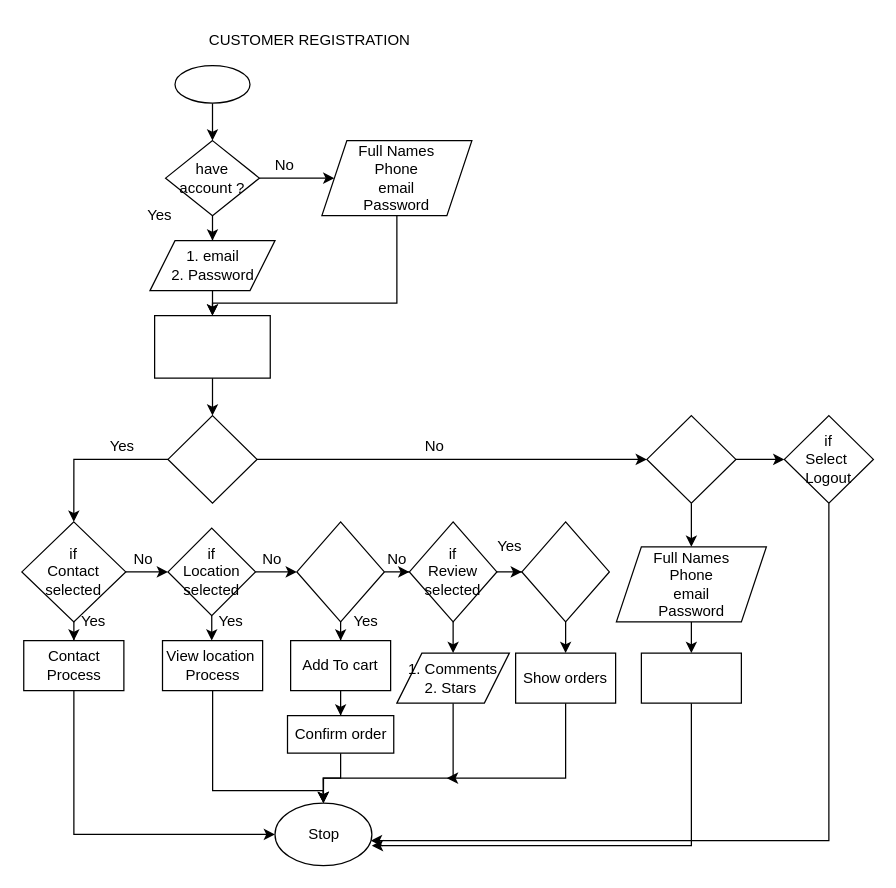
Image size: 896x888. Some labels were removed from this diagram. The shapes that lost their labels are listed below. From the top down, each one's box as (x1, y1, x2, y2) in pixels, then its label:
(174, 64, 250, 103): Start
(153, 314, 270, 378): Authentication Process
(167, 414, 257, 503): if Select Shop
(646, 414, 736, 503): if Select Profile
(296, 521, 384, 622): if Product selected
(521, 521, 609, 622): if Orders selected
(640, 652, 741, 703): Update Profile
